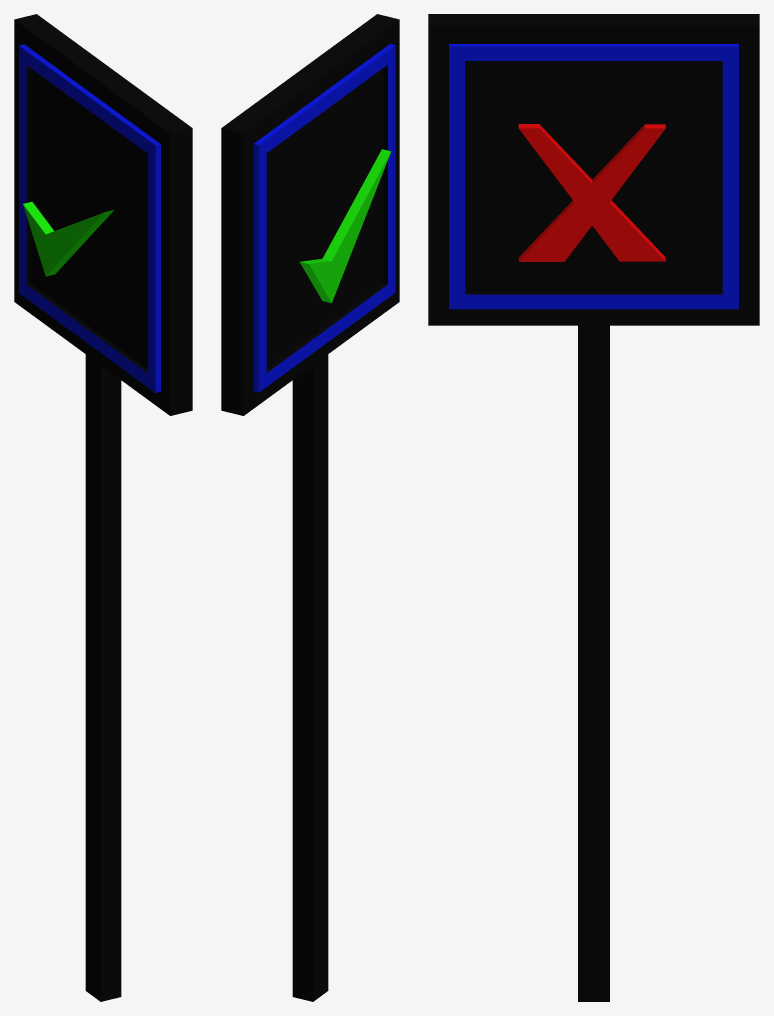
Rendered from Checkpoint.fbx.
3 renders of one model, left to right at view 1: azimuth 30°, elevation 25°; view 2: azimuth 150°, elevation 25°; view 3: azimuth 270°, elevation 25°, orthographic. The views are drawn at different scales.
Parts seen in each view (by area): view 1: Cube.003, Cube.002; view 2: Cube.003, Cube.002; view 3: Cube.003, Cube.002.
Part boxes in pixels (<box>): Cube.003: <box>14,14,192,415</box>; Cube.002: <box>85,354,121,1001</box>; Cube.003: <box>221,14,399,415</box>; Cube.002: <box>292,354,328,1001</box>; Cube.003: <box>428,14,759,325</box>; Cube.002: <box>578,325,609,1001</box>.
Bounding box in the file's own units: 0.5818 × 6.51 × 2.
